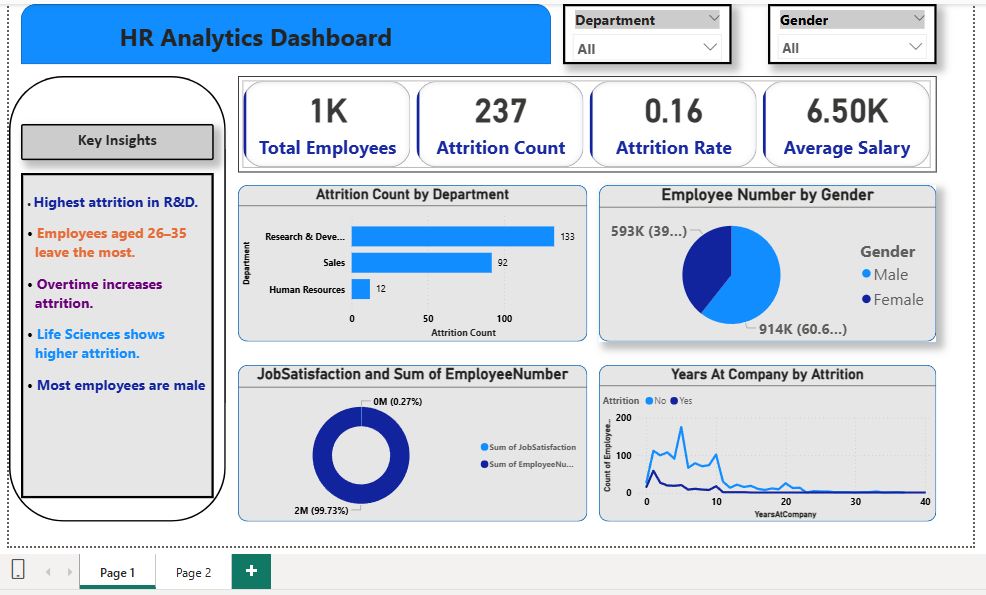

Layout of this report page (visuals, bound fields, positions):
{"tool":"powerbi","page":{"name":"Page 1","canvas":[1280,720],"ordinal":0},"visuals":[{"type":"cardVisual","fields":{"Data":["HR_Data.Total Employees","HR_Data.Attrition Count","HR_Data.Attrition Rate","HR_Data.Average Salary"]},"box":[16,96,1232,128],"z":0},{"type":"shape","box":[0,0,1264,80],"z":1000},{"type":"textbox","box":[96,0,1024,80],"z":2000},{"type":"shape","box":[16,240,576,208],"z":3000},{"type":"clusteredBarChart","fields":{"Category":["HR_Data.Department"],"Y":["HR_Data.Attrition Count"]},"box":[32,240,560,208],"z":4000},{"type":"shape","box":[640,240,592,208],"z":5000},{"type":"pieChart","title":"Employee Number by Gender","fields":{"Category":["HR_Data.Gender"],"Y":["Sum(HR_Data.EmployeeNumber)"]},"box":[640,240,592,208],"z":6000},{"type":"shape","box":[16,480,576,208],"z":7000},{"type":"donutChart","title":" JobSatisfaction and Sum of EmployeeNumber","fields":{"Y":["Sum(HR_Data.JobSatisfaction)","Sum(HR_Data.EmployeeNumber)"]},"box":[16,480,576,208],"z":8000},{"type":"shape","box":[640,480,592,208],"z":9000},{"type":"lineChart","title":" Years At Company by Attrition","fields":{"Category":["HR_Data.YearsAtCompany"],"Y":["Count(HR_Data.EmployeeNumber)"],"Series":["HR_Data.Attrition"]},"box":[640,480,592,208],"z":10000}]}

Visuals, with their boxes on the page's 1280x720 design canvas (x1, y1, x2, y2). These are canvas units, not pixel positions in the 986x595 screenshot, which may show the page scaled, cropped or inside an application window:
cardVisual - HR_Data.Total Employees x HR_Data.Attrition Count: box=[16, 96, 1248, 224]
shape: box=[0, 0, 1264, 80]
textbox: box=[96, 0, 1120, 80]
shape: box=[16, 240, 592, 448]
clusteredBarChart - HR_Data.Department x HR_Data.Attrition Count: box=[32, 240, 592, 448]
shape: box=[640, 240, 1232, 448]
"Employee Number by Gender" pieChart: box=[640, 240, 1232, 448]
shape: box=[16, 480, 592, 688]
" JobSatisfaction and Sum of EmployeeNumber" donutChart: box=[16, 480, 592, 688]
shape: box=[640, 480, 1232, 688]
" Years At Company by Attrition" lineChart: box=[640, 480, 1232, 688]
